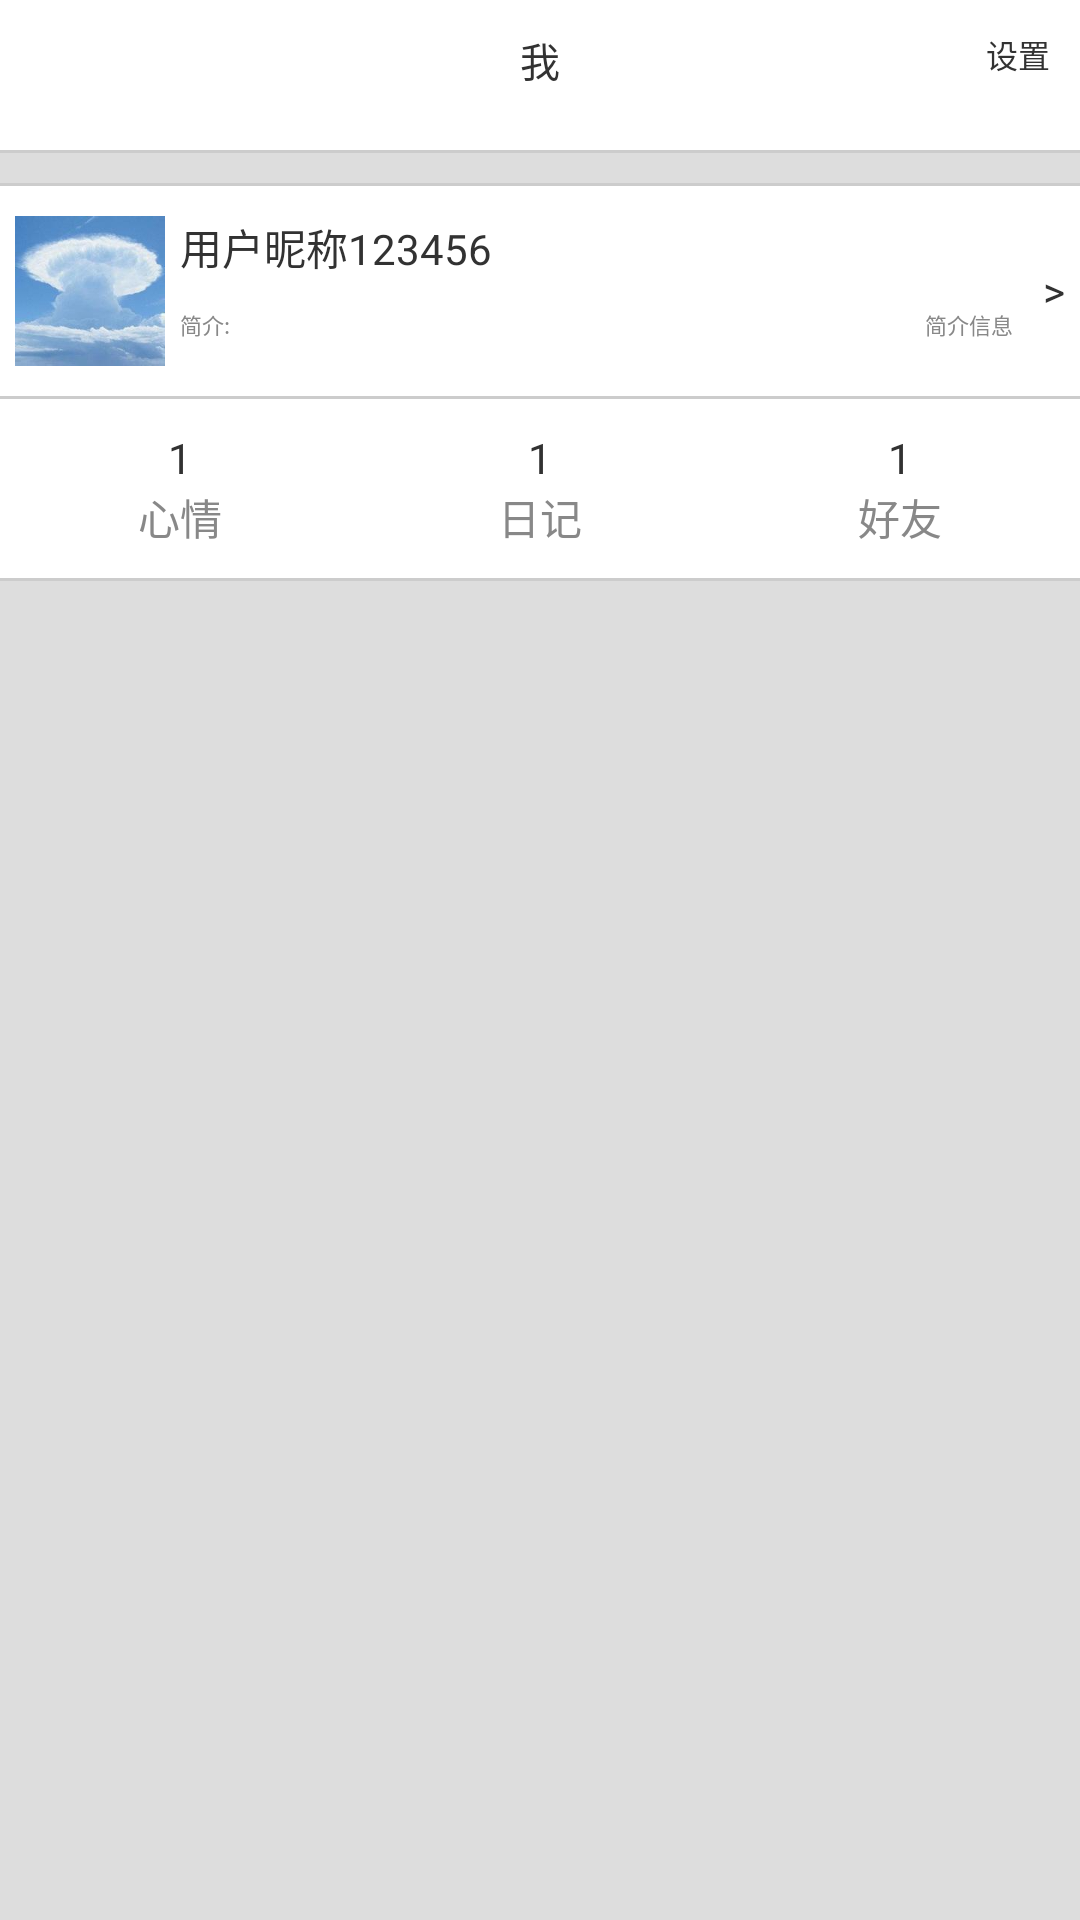

Icons on this 1080 x 1920 Android screen, each with the point to tap as (x,y):
personalheadimg: (90,291)
